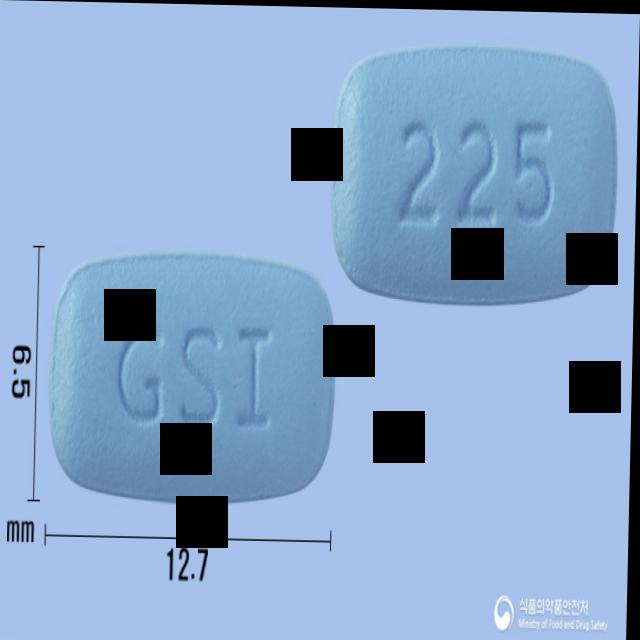Descovy: (326, 35, 622, 305), (49, 244, 343, 509)
